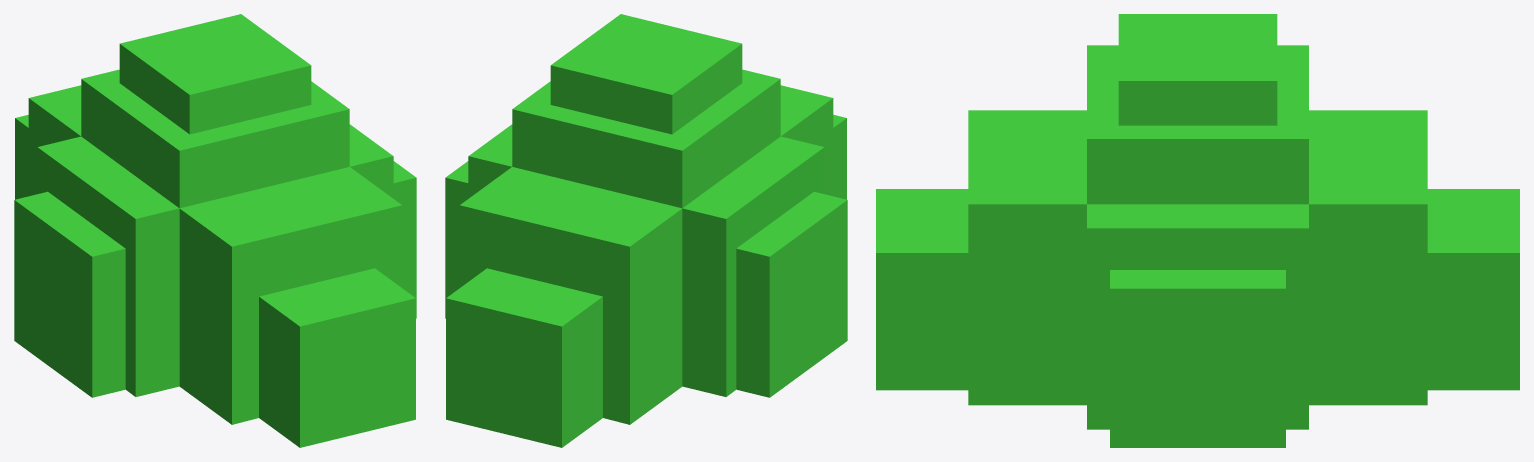
Rendered from Bush2.fbx.
3 views of the same model, side by side, from view 1: azimuth 30°, elevation 25°; view 2: azimuth 150°, elevation 25°; view 3: azimuth 270°, elevation 25° (orthographic). The views are drawn at different scales.
Parts seen in each view (by area): view 1: Cube; view 2: Cube; view 3: Cube.
Boxes of the visible parts, bbox=[...] form: Cube: bbox=[14, 14, 416, 447]; Cube: bbox=[445, 14, 847, 447]; Cube: bbox=[876, 14, 1519, 447].
Size of the model in its own units: 220 by 179 by 335.
